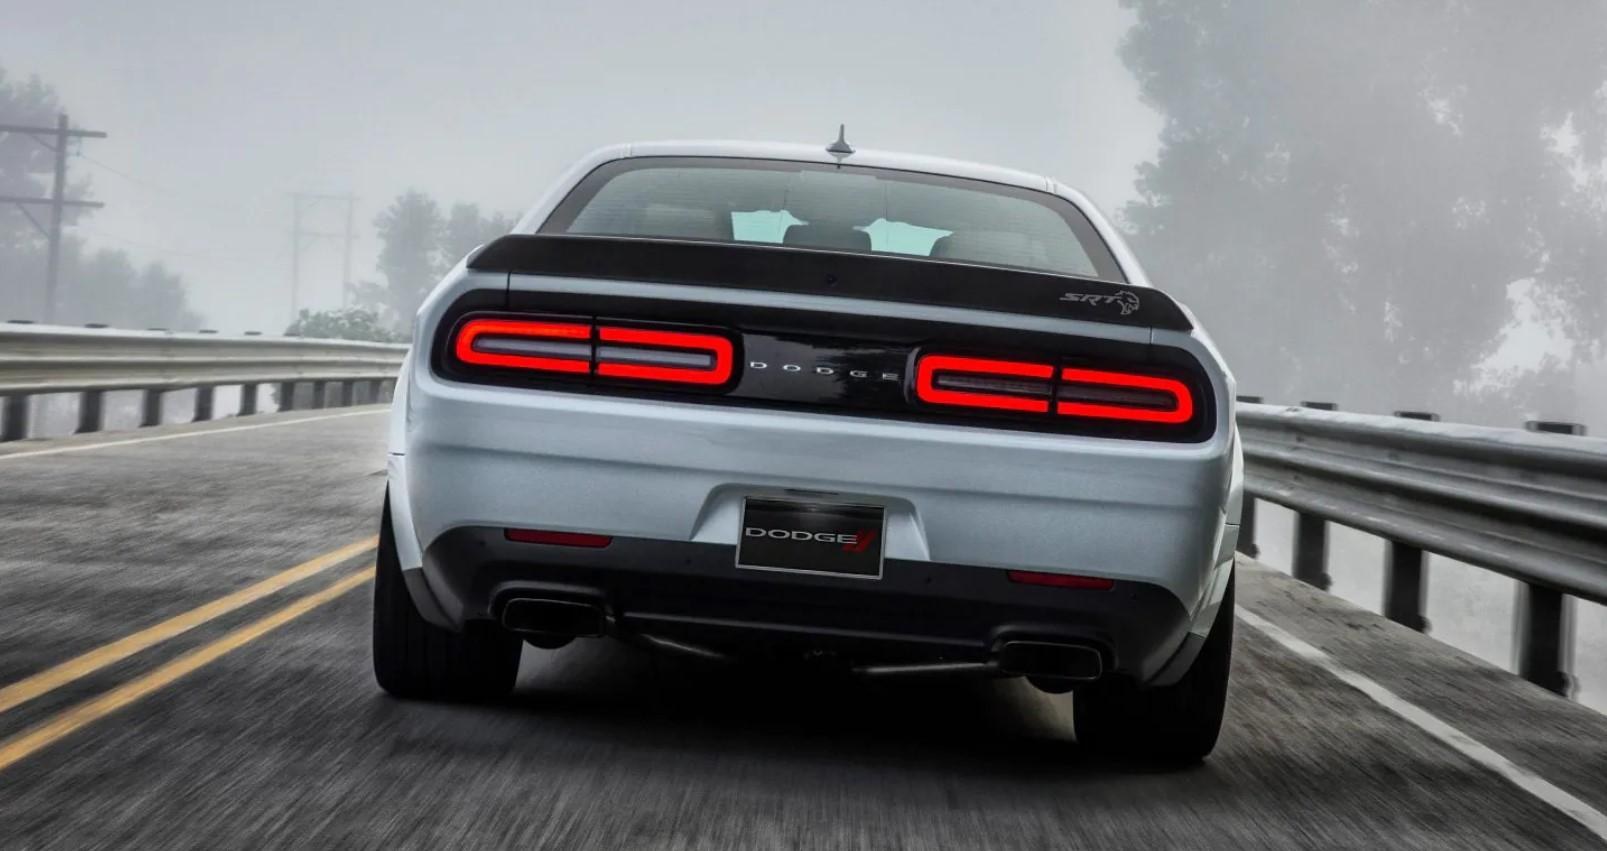dodge: (741, 346, 908, 393)
